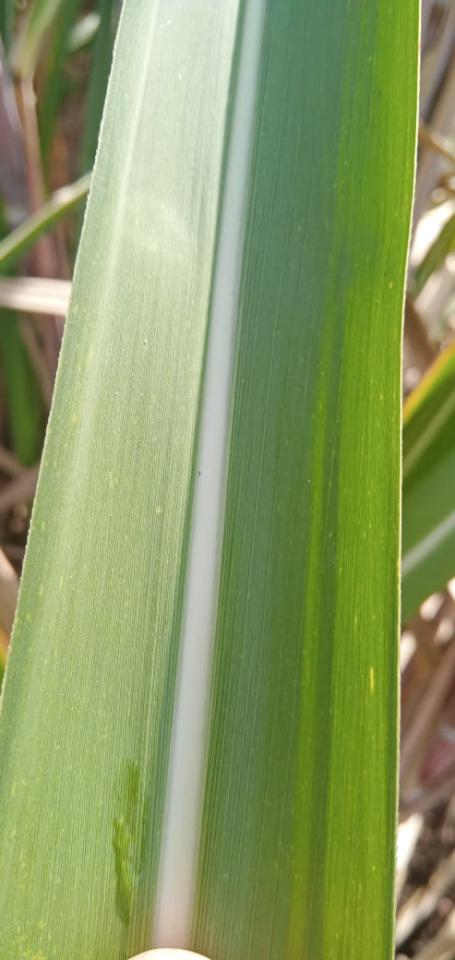Healthy: (0, 0, 418, 959)
